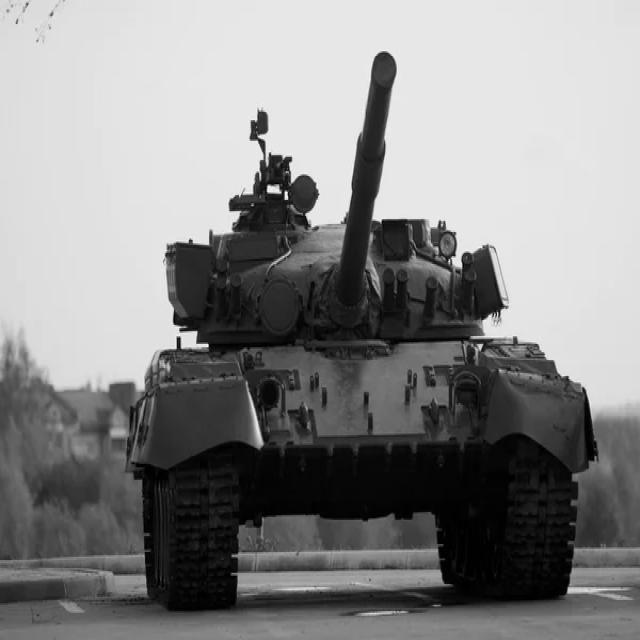Tank: (126, 31, 604, 613)
